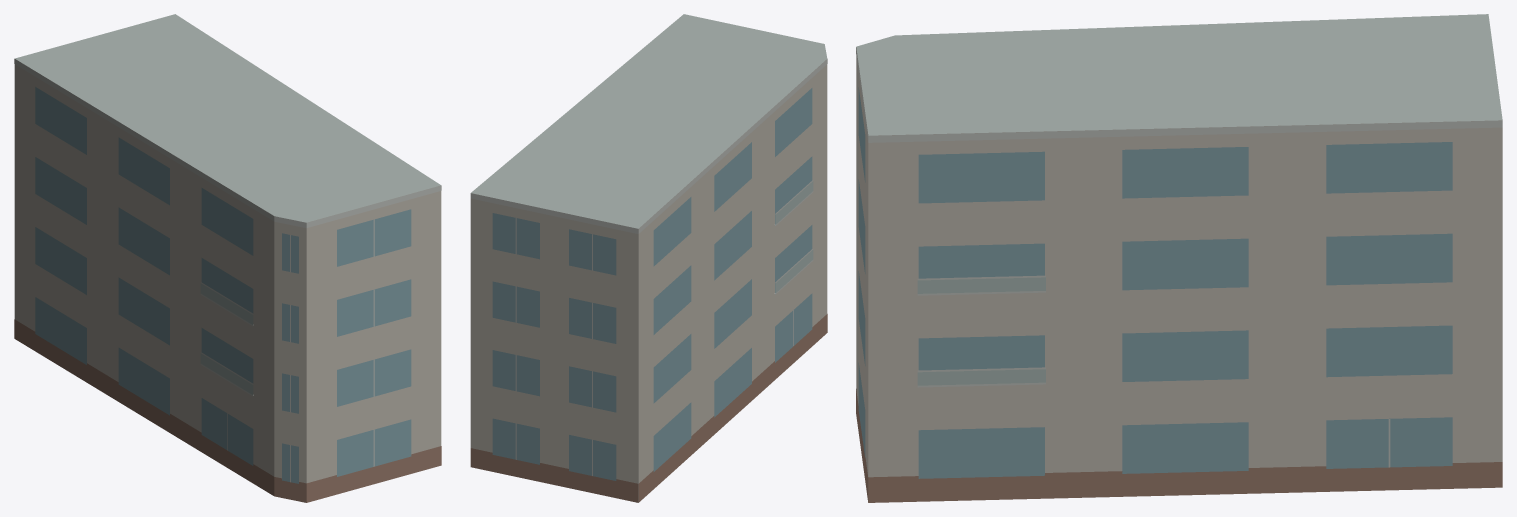
File: survey-upis-32630667.glb
3 views of the same model, side by side, from view 1: azimuth 30°, elevation 25°; view 2: azimuth 150°, elevation 25°; view 3: azimuth 270°, elevation 25° (orthographic). The views are drawn at different scales.
Parts seen in each view (by area): view 1: survey-upis-32630667.tmp; view 2: survey-upis-32630667.tmp; view 3: survey-upis-32630667.tmp.
Boxes of the visible parts, left/top/right/bottom form: survey-upis-32630667.tmp: left=14, top=14, right=441, bottom=502; survey-upis-32630667.tmp: left=470, top=14, right=827, bottom=502; survey-upis-32630667.tmp: left=856, top=14, right=1502, bottom=502.
Size of the model in its own units: 8.82 by 12.4 by 19.8.
